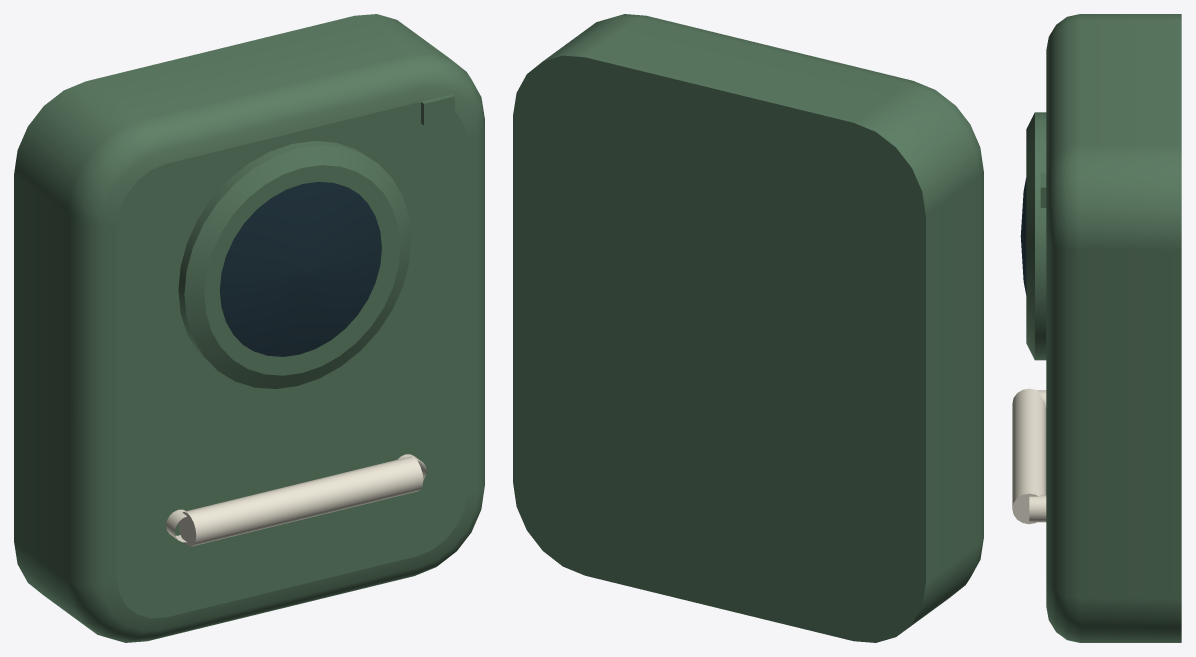
Rendered from t10_water.obj.
3 views of the same model, side by side, from view 1: azimuth 30°, elevation 25°; view 2: azimuth 150°, elevation 25°; view 3: azimuth 270°, elevation 25° (orthographic). The views are drawn at different scales.
Parts seen in each view (by area): view 1: t10_water; view 2: t10_water; view 3: t10_water.
Part boxes in pixels (x1,y1,x2,y2): t10_water: (14,14,484,642); t10_water: (513,14,983,642); t10_water: (1012,14,1181,642).
Size of the model in its own units: 0.8 by 0.96 by 0.3.
